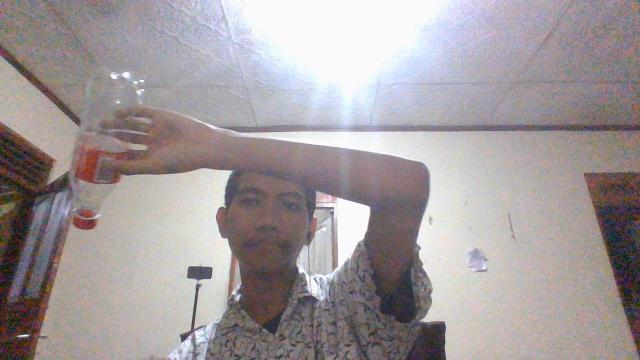coca-cola: (66, 70, 142, 231)
